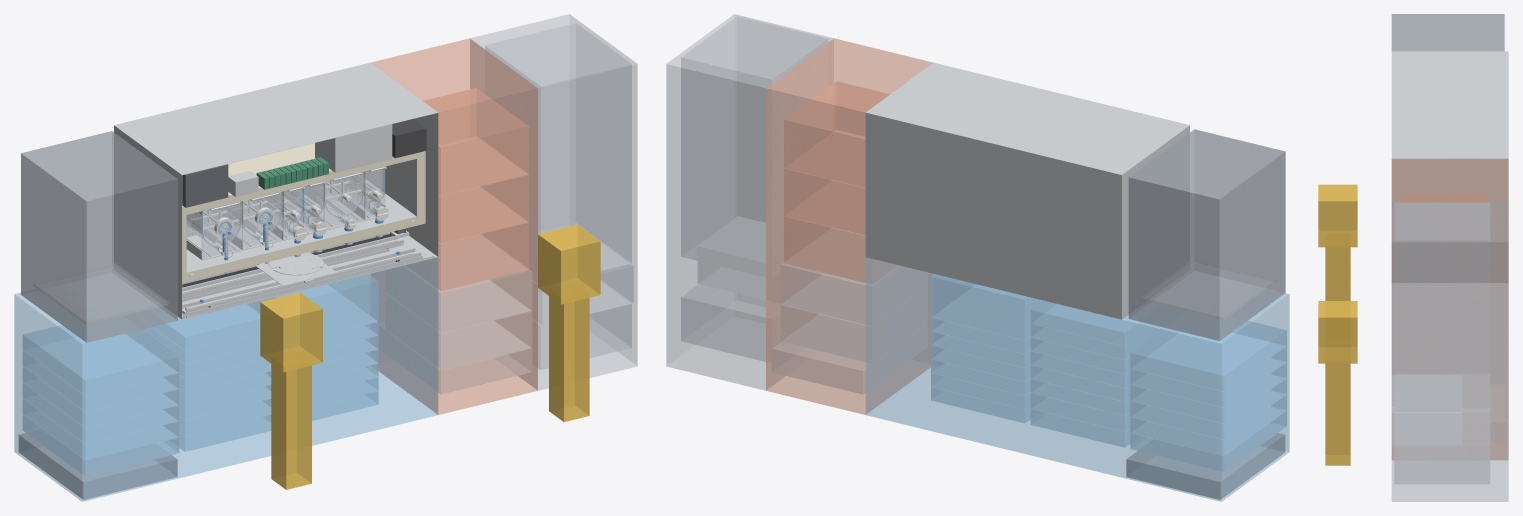
The model's file is hat_v17.glb.
3 views of the same model, side by side, from view 1: azimuth 30°, elevation 25°; view 2: azimuth 150°, elevation 25°; view 3: azimuth 270°, elevation 25° (orthographic). The views are drawn at different scales.
Visible parts, largest first — view 1: B_KABIN, TOPPING_MODUL__sac, D_KABIN, E_KABIN, PRESS, E_SARJOR, FIRIN_3, CEK_K1_hamur_6, TOPPING_MODUL__pu, B_SOGUTMA, ROBOT_2, ROBOT_1 (+42 smaller); view 2: B_KABIN, TOPPING_MODUL__sac, D_KABIN, E_KABIN, PRESS, E_SARJOR, FIRIN_3, CEK_K1_hamur_6, B_SOGUTMA, E_MEK, PRESS_PLAKA, CEK_K3_icecek_1 (+25 smaller); view 3: E_KABIN, TOPPING_MODUL__sac, E_SARJOR, D_KABIN, E_MEK, PRESS, ROBOT_2, ROBOT_1_KOL, ROBOT_2_KOL, E_AGZ, ROBOT_1, FIRIN_3.
Part boxes in pixels (left/top/right/bottom): B_KABIN: left=14, top=257, right=438, bottom=501; TOPPING_MODUL__sac: left=114, top=62, right=438, bottom=319; D_KABIN: left=370, top=38, right=537, bottom=414; E_KABIN: left=470, top=14, right=637, bottom=390; PRESS: left=21, top=131, right=177, bottom=342; E_SARJOR: left=485, top=23, right=631, bottom=270; FIRIN_3: left=423, top=88, right=528, bottom=195; CEK_K1_hamur_6: left=23, top=325, right=178, bottom=395; TOPPING_MODUL__pu: left=182, top=143, right=425, bottom=282; B_SOGUTMA: left=18, top=429, right=177, bottom=499; ROBOT_2: left=549, top=283, right=589, bottom=421; ROBOT_1: left=271, top=351, right=311, bottom=489; B_KABIN: left=865, top=257, right=1289, bottom=501; TOPPING_MODUL__sac: left=865, top=62, right=1189, bottom=319; D_KABIN: left=766, top=38, right=933, bottom=414; E_KABIN: left=666, top=14, right=833, bottom=390; PRESS: left=1128, top=129, right=1285, bottom=340; E_SARJOR: left=681, top=16, right=827, bottom=277; FIRIN_3: left=784, top=81, right=889, bottom=187; CEK_K1_hamur_6: left=1130, top=321, right=1286, bottom=391; B_SOGUTMA: left=1126, top=429, right=1285, bottom=499; E_MEK: left=681, top=284, right=765, bottom=361; PRESS_PLAKA: left=1141, top=259, right=1275, bottom=320; CEK_K3_icecek_1: left=931, top=274, right=1042, bottom=339; E_KABIN: left=1391, top=200, right=1508, bottom=501; TOPPING_MODUL__sac: left=1391, top=51, right=1508, bottom=282; E_SARJOR: left=1394, top=203, right=1489, bottom=411; D_KABIN: left=1392, top=158, right=1508, bottom=459; E_MEK: left=1394, top=412, right=1489, bottom=483; PRESS: left=1391, top=14, right=1504, bottom=51; ROBOT_2: left=1325, top=363, right=1350, bottom=465; ROBOT_1_KOL: left=1318, top=184, right=1357, bottom=247; ROBOT_2_KOL: left=1318, top=301, right=1357, bottom=363; E_AGZ: left=1392, top=375, right=1461, bottom=444; ROBOT_1: left=1325, top=234, right=1350, bottom=300; FIRIN_3: left=1397, top=195, right=1487, bottom=200.
Size of the model in its own units: 3.9 by 2.03 by 1.35.
Materials: 91 (12 with a texture image).
